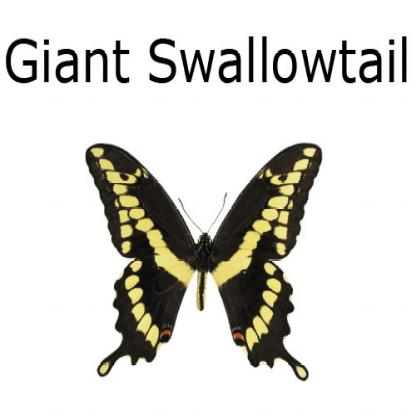Giant Swallowtail: (53, 117, 347, 405)
